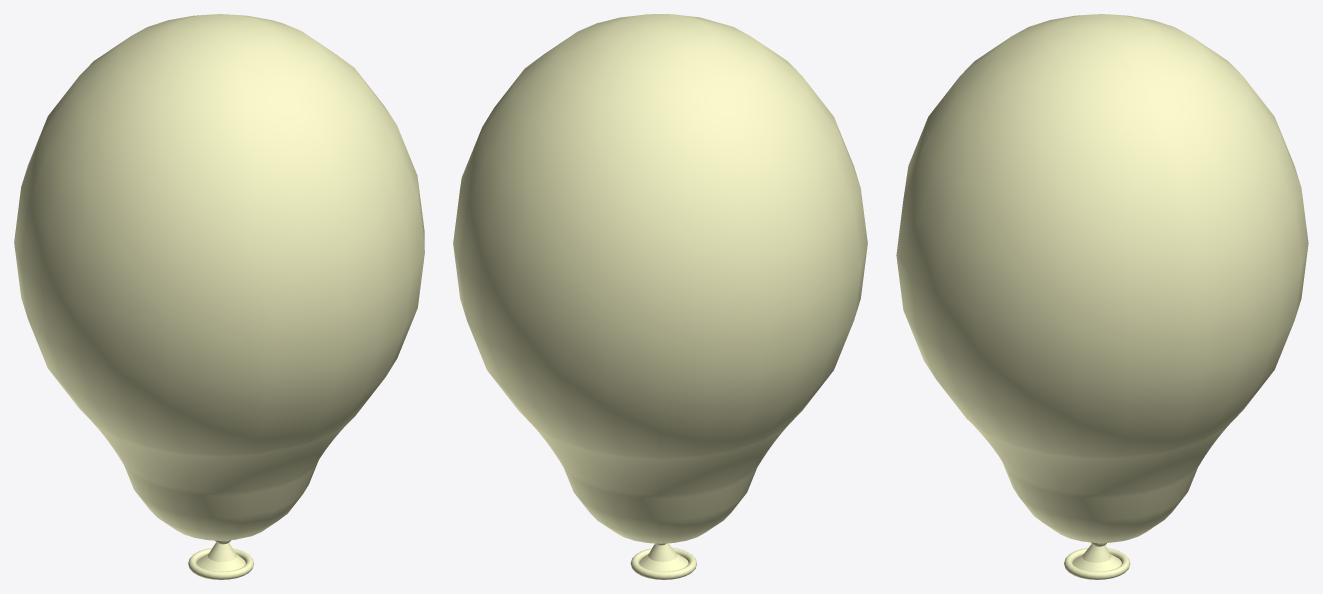
3 renders of one model, left to right at view 1: azimuth 30°, elevation 25°; view 2: azimuth 150°, elevation 25°; view 3: azimuth 270°, elevation 25°, orthographic.
Visible parts, largest first — view 1: SketchUp (×2); view 2: SketchUp (×2); view 3: SketchUp (×2).
Part boxes in pixels (x1,y1,x2,y2): SketchUp (×2): (14,14,424,579); SketchUp (×2): (453,14,867,579); SketchUp (×2): (896,14,1308,579).
Bounding box in the file's own units: 19.61 × 19.59 × 28.25.
